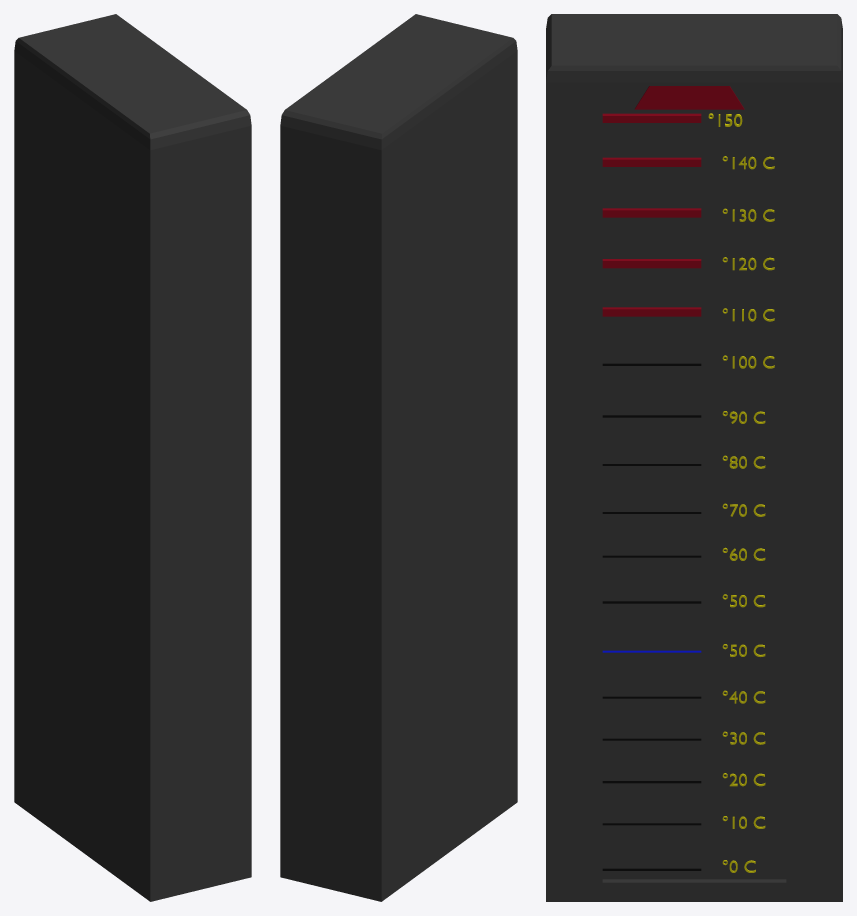
Rendered from TempGauge.fbx.
3 renders of one model, left to right at view 1: azimuth 30°, elevation 25°; view 2: azimuth 150°, elevation 25°; view 3: azimuth 270°, elevation 25°, orthographic. The views are drawn at different scales.
Parts seen in each view (by area): view 1: Text.001; view 2: Text.001; view 3: Text.001.
Part boxes in pixels (box(x1,y1,x2,y2)): Text.001: box(14, 14, 251, 901); Text.001: box(280, 14, 517, 901); Text.001: box(546, 14, 842, 901).
Bounding box in the file's own units: 8.99 × 65.06 × 20.96.
